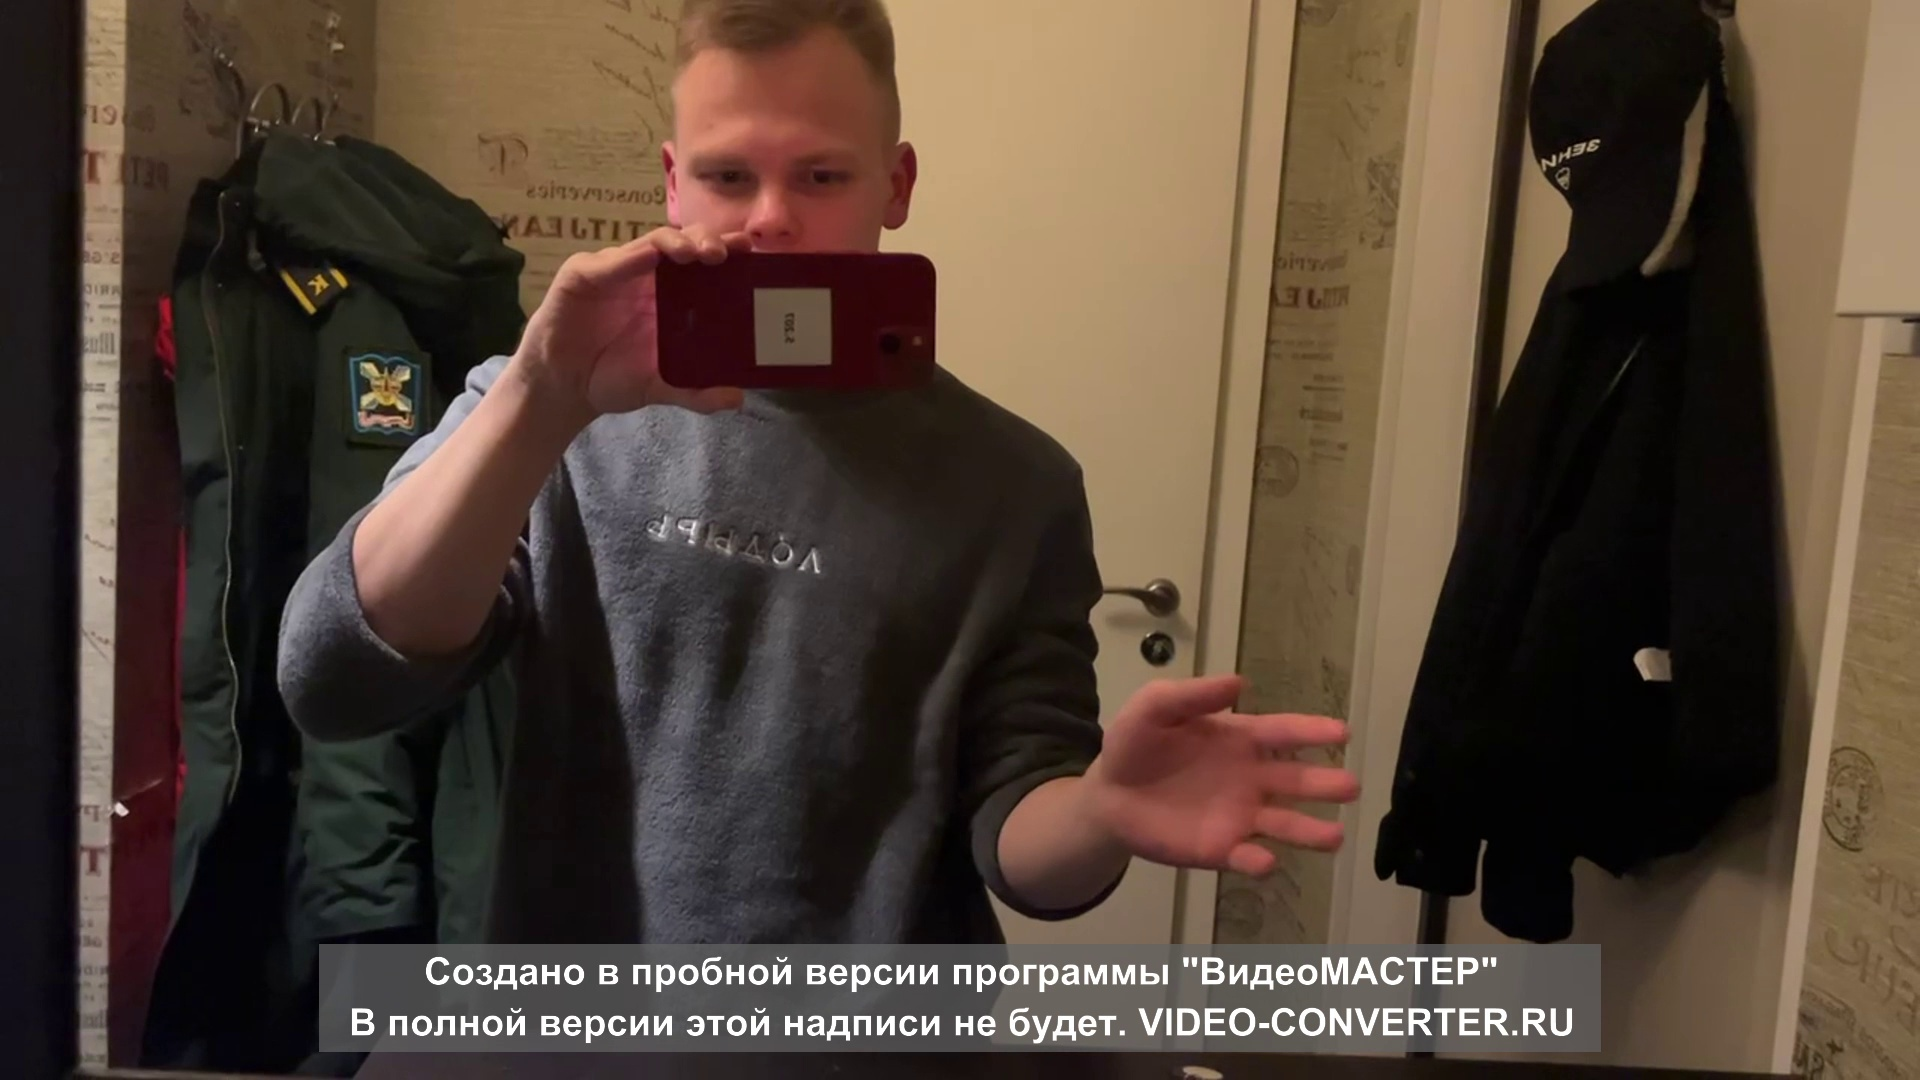Ладонь: (1104, 667, 1362, 877)
